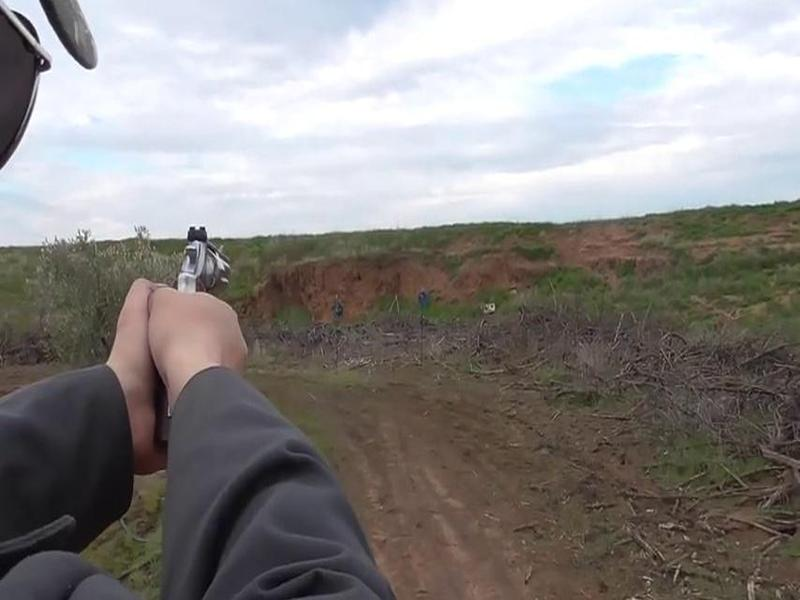Revolver: (167, 219, 240, 316)
